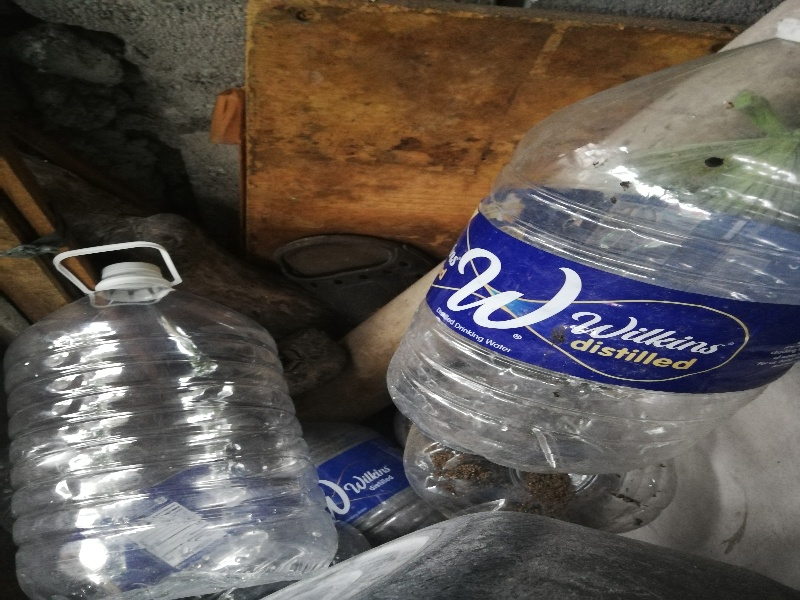PET #1: (400, 28, 800, 475), (8, 237, 338, 598)
